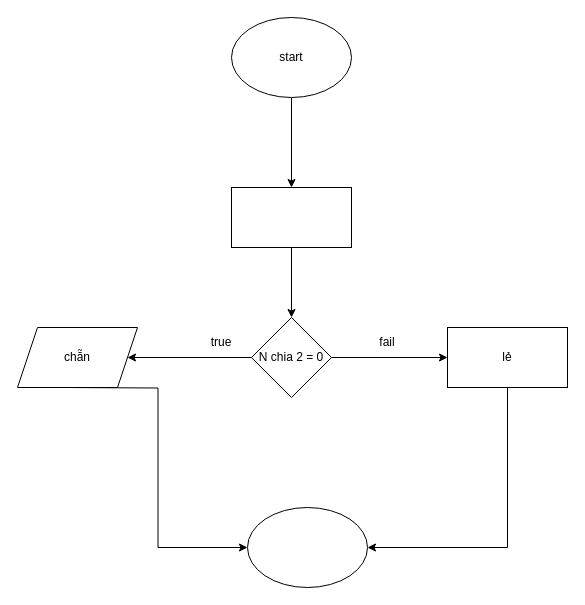
Some shapes in this 585 by 605 pixel diagram are drawn without their labels. The shapes that lost their labels are listed below. From the top down, each one's centre as x and y in pixels, then its label:
(291,217): input N
(307,547): end
